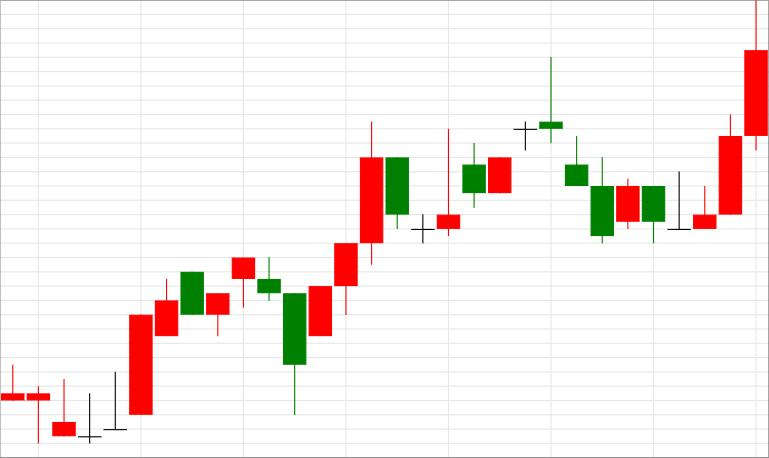three_white_soldiers_rise: (232, 121, 383, 414)
